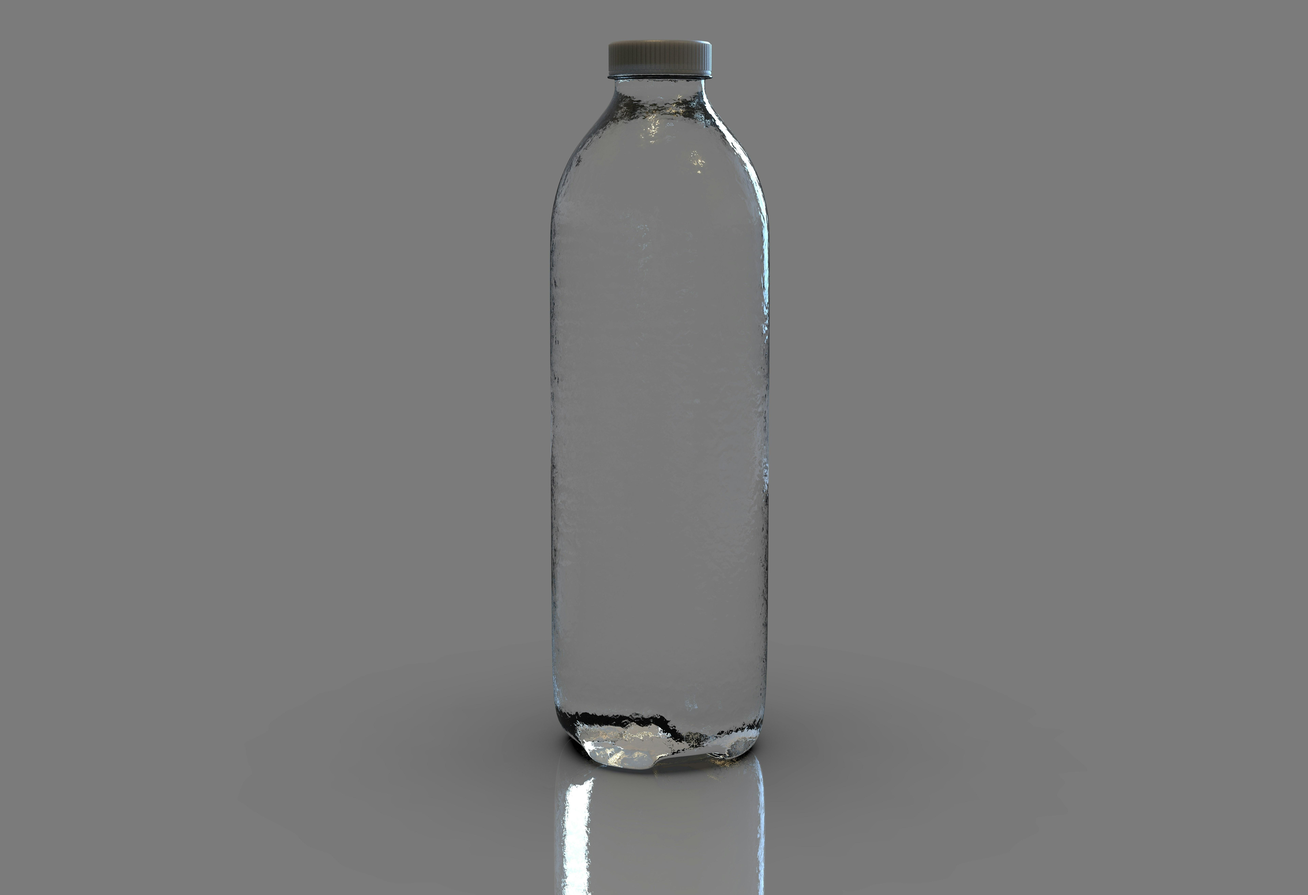Bottle-Detection: (511, 9, 828, 840)
